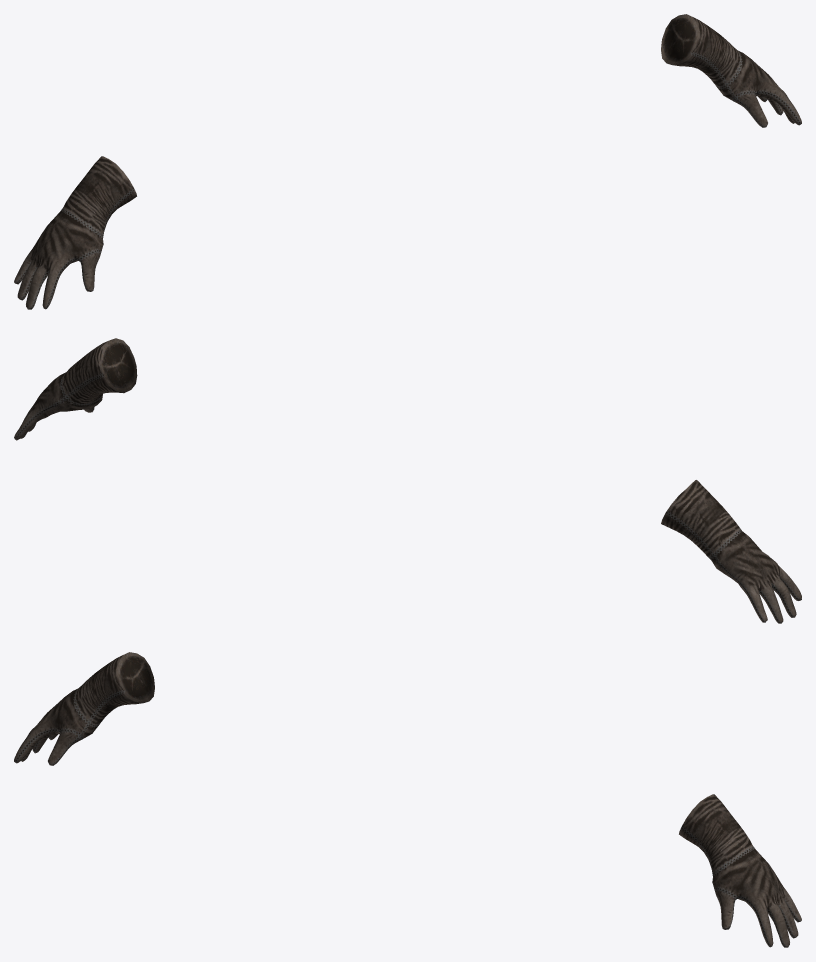
File: sk_uruk_hai_gloves_a1.fbx
The picture shows the model from 3 angles, top to bottom: view 1: azimuth 30°, elevation 25°; view 2: azimuth 150°, elevation 25°; view 3: azimuth 330°, elevation 25°; orthographic projection.
Parts seen in each view (by area): view 1: sk_uruk_hai_gloves_a1; view 2: sk_uruk_hai_gloves_a1; view 3: sk_uruk_hai_gloves_a1.
Boxes of the visible parts, x1,y1,x2,y2 form: sk_uruk_hai_gloves_a1: (14,14,801,309); sk_uruk_hai_gloves_a1: (14,338,801,623); sk_uruk_hai_gloves_a1: (14,652,801,947).
Bounding box in the file's own units: 1.59 × 0.1574 × 0.2388.
1 material, 1 textured.
